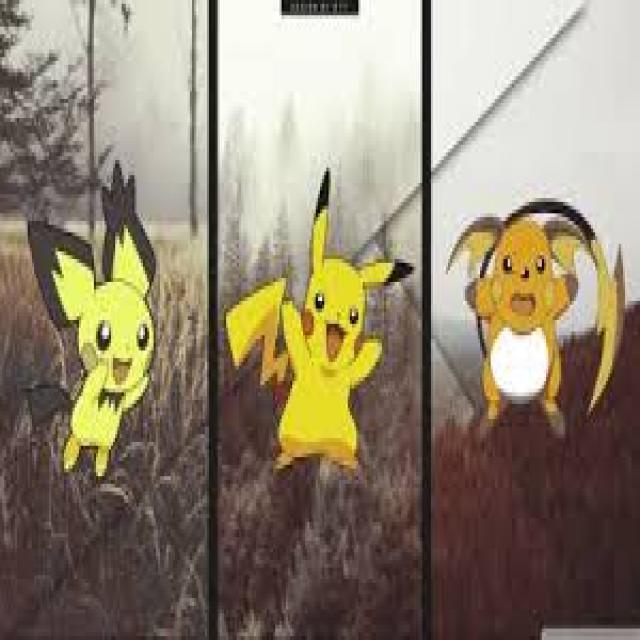pichu: (31, 166, 160, 473)
